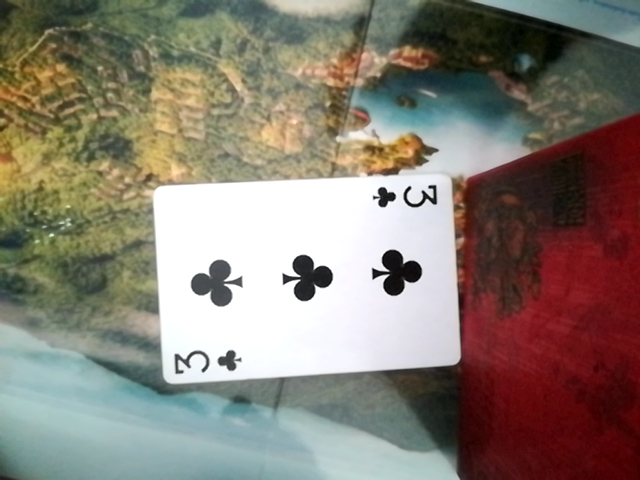mh 3: (149, 170, 455, 387)
